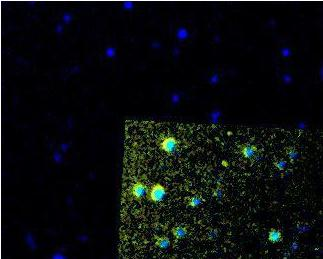star: (208, 146, 238, 176)
